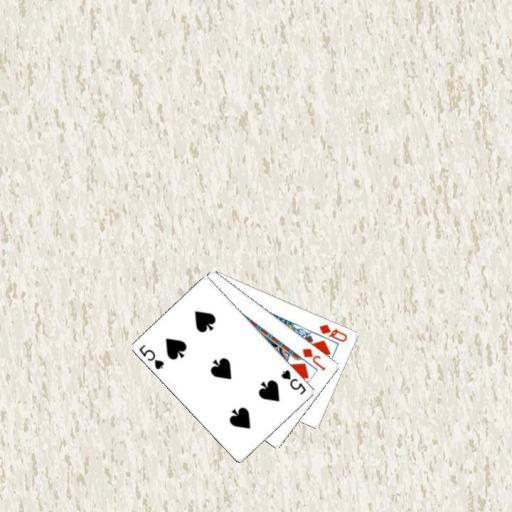5S: (278, 366, 308, 396), (136, 342, 166, 372)
JD: (299, 345, 327, 372)
QD: (316, 321, 349, 344)
